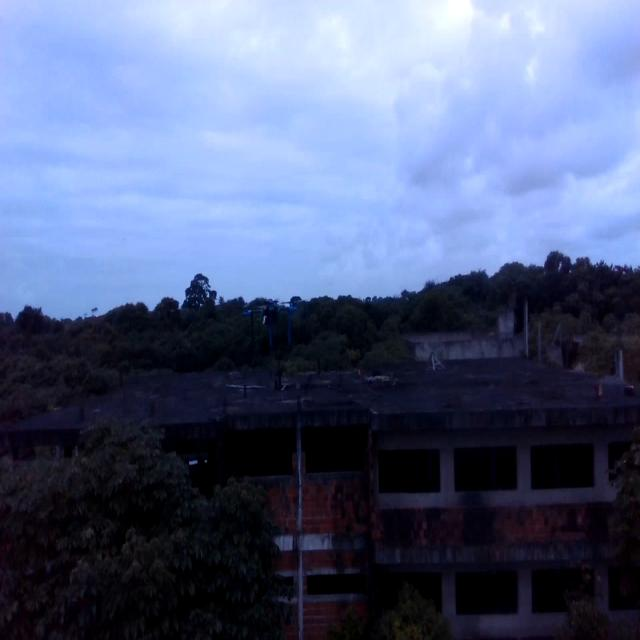-uav-: (232, 284, 306, 362)
